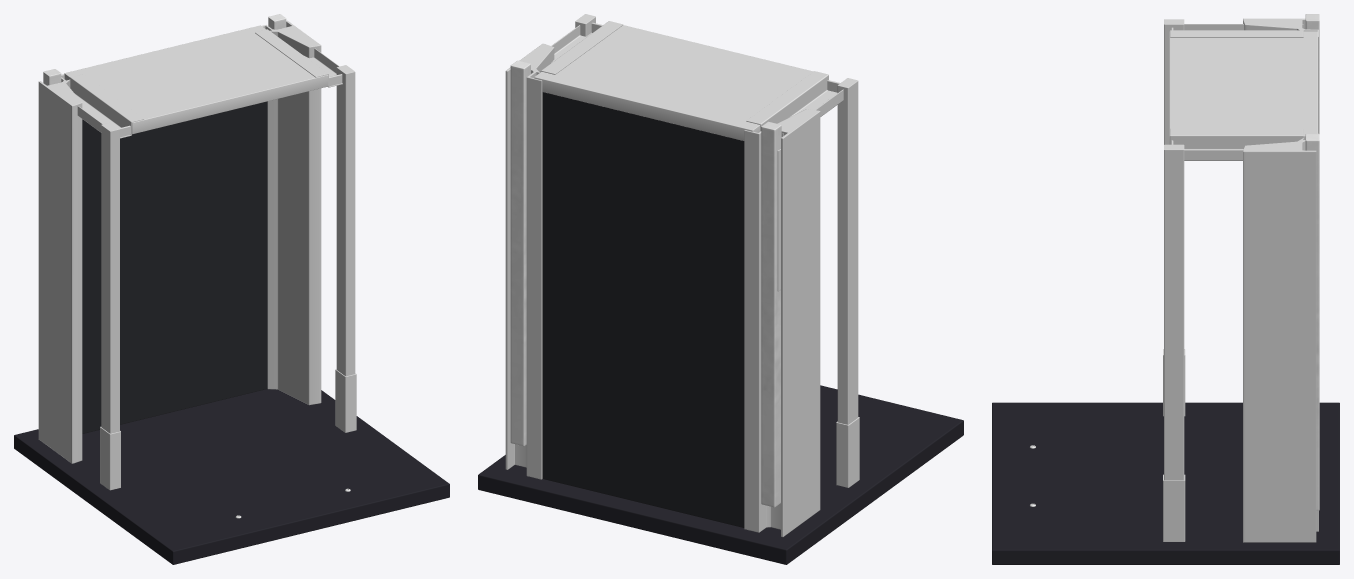
File: SM_Kitchen_10_Drawer_03.obj
3 renders of one model, left to right at view 1: azimuth 30°, elevation 25°; view 2: azimuth 150°, elevation 25°; view 3: azimuth 270°, elevation 25°, orthographic. The views are drawn at different scales.
Visible parts, largest first — view 1: SM_Kitchen_06_Base_Drawer_03; view 2: SM_Kitchen_06_Base_Drawer_03; view 3: SM_Kitchen_06_Base_Drawer_03.
Boxes of the visible parts, x1=… form: SM_Kitchen_06_Base_Drawer_03: x1=14, y1=14, x2=449, y2=564; SM_Kitchen_06_Base_Drawer_03: x1=478, y1=14, x2=963, y2=564; SM_Kitchen_06_Base_Drawer_03: x1=992, y1=14, x2=1339, y2=564.
Bounding box in the file's own units: 0.398 × 0.5199 × 0.396.
